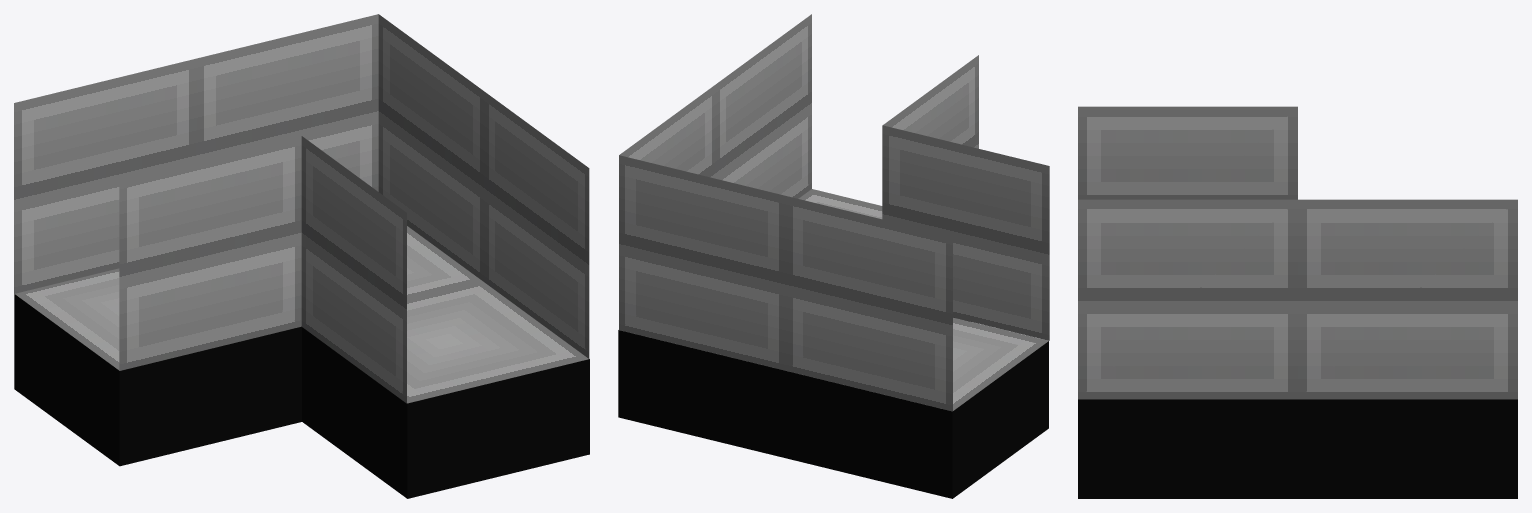
The picture shows the model from 3 angles, left to right: view 1: azimuth 30°, elevation 25°; view 2: azimuth 150°, elevation 25°; view 3: azimuth 270°, elevation 25°; orthographic projection. The views are drawn at different scales.
Parts seen in each view (by area): view 1: Cube.828; view 2: Cube.828; view 3: Cube.828.
Boxes of the visible parts, <box> form: Cube.828: <box>14,14,589,498</box>; Cube.828: <box>618,14,1049,498</box>; Cube.828: <box>1078,106,1517,498</box>.
Bounding box in the file's own units: 4 × 3 × 4.
Materials: 2 (1 with a texture image).
